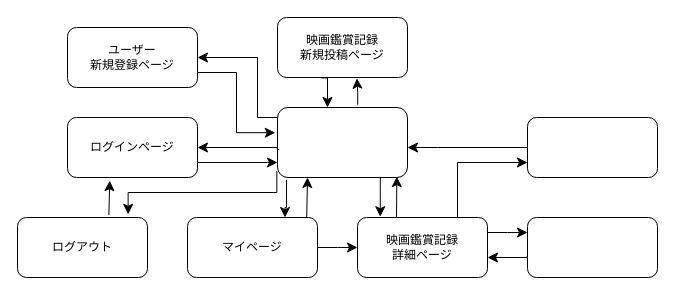
Image size: 675x295. Some labels were removed from this diagram. Each missing label, with the centre of its shape:
"トップページ" belongs at (342,142).
"削除" belongs at (592,147).
"映画鑑賞記録 編集ページ" belongs at (592,247).
